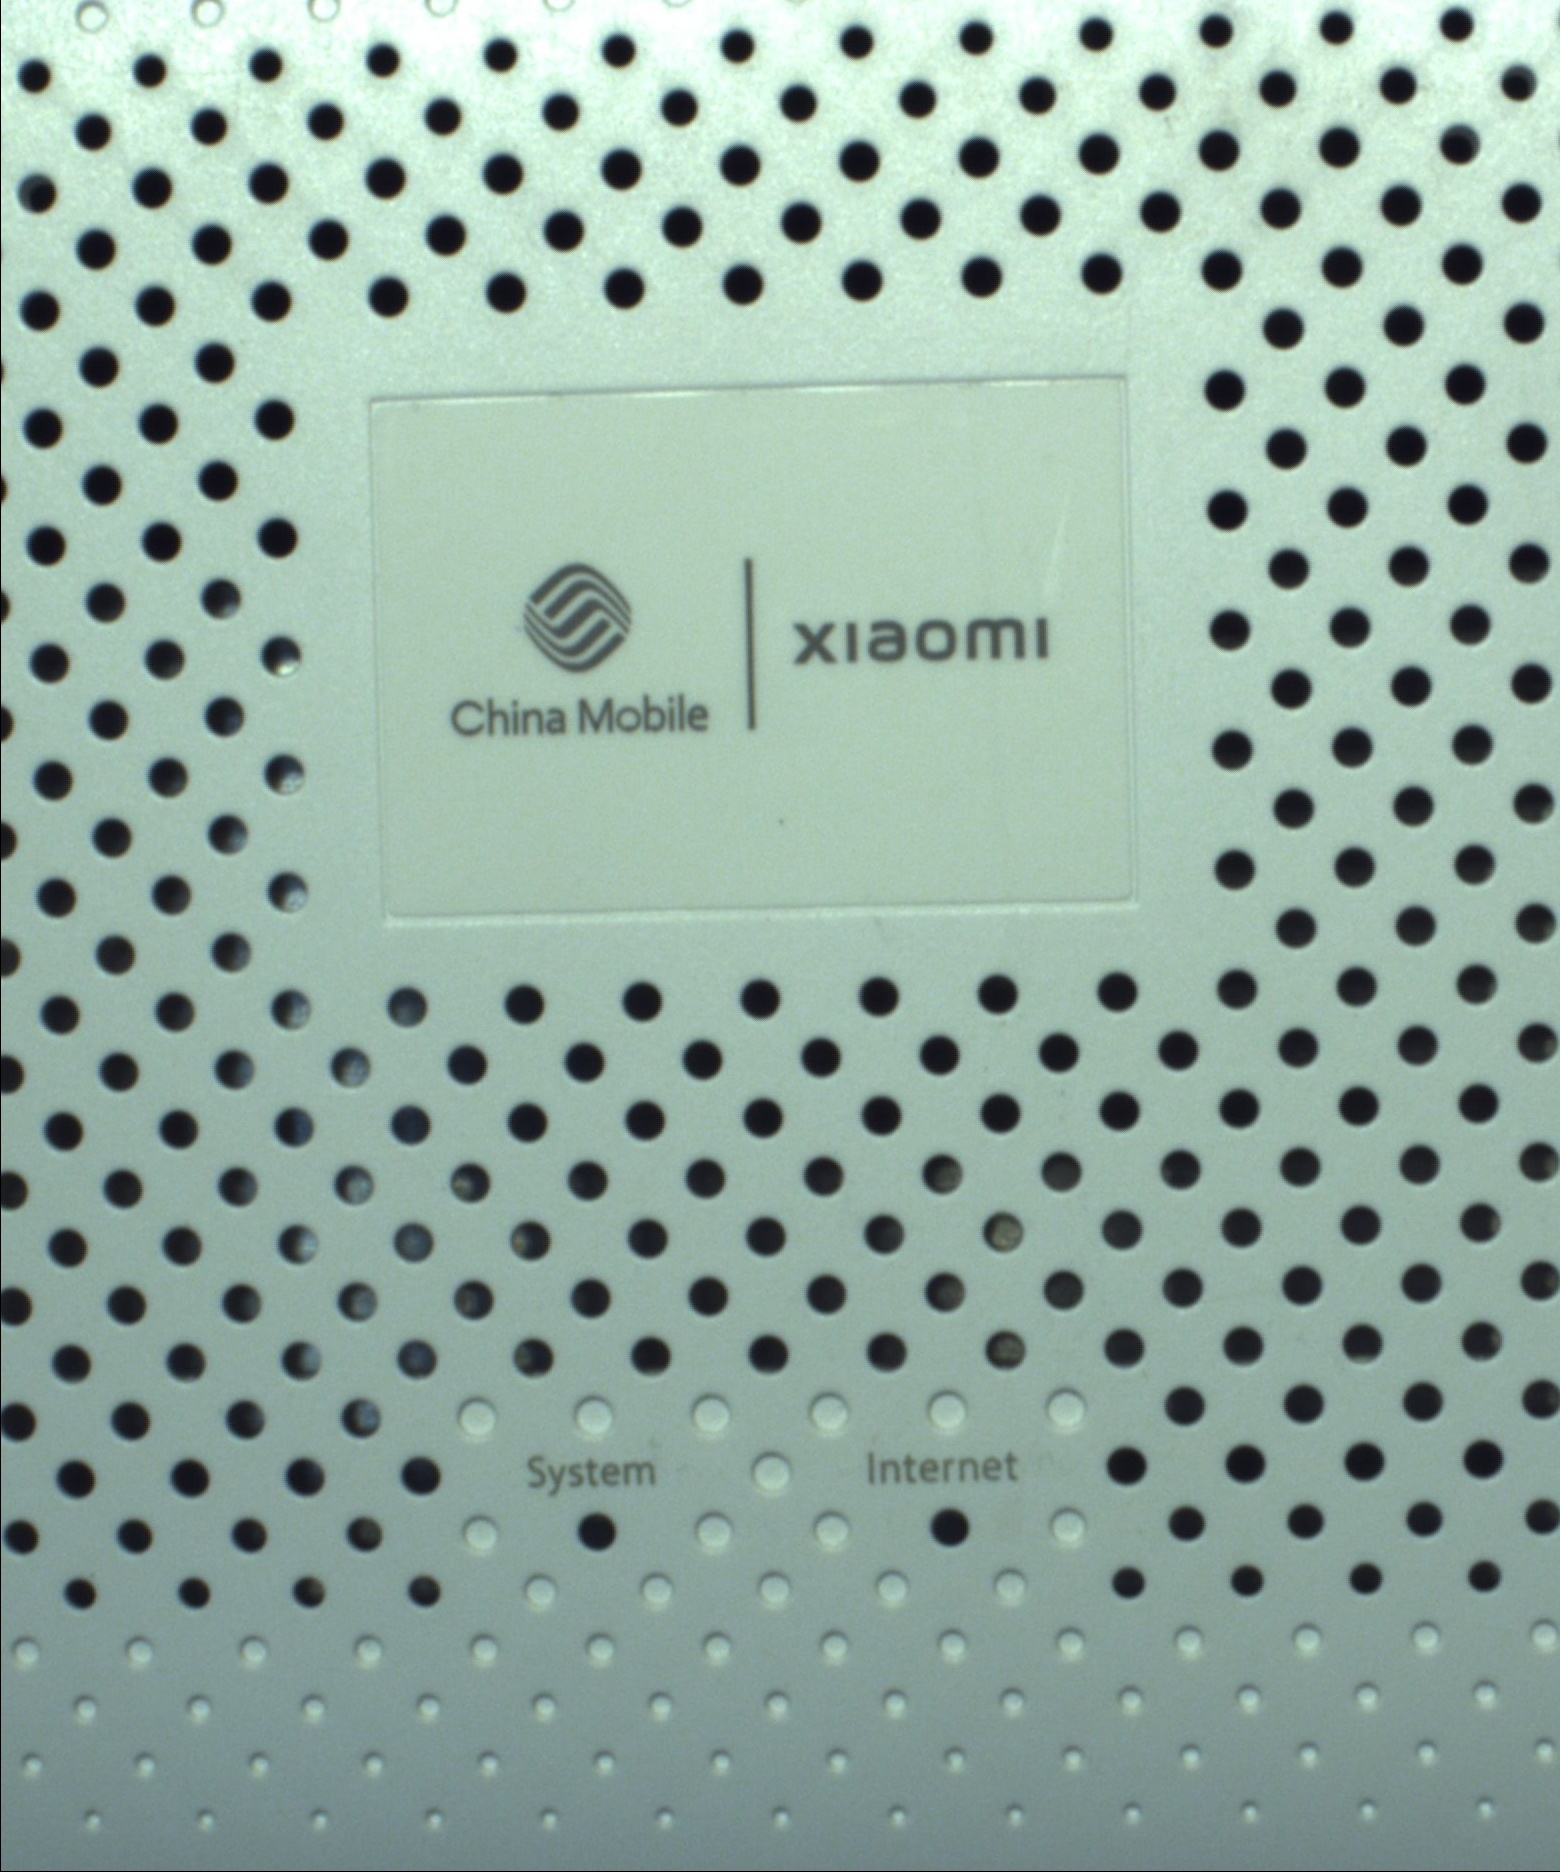MAD_ChinaMobile: (431, 550, 1059, 770)
